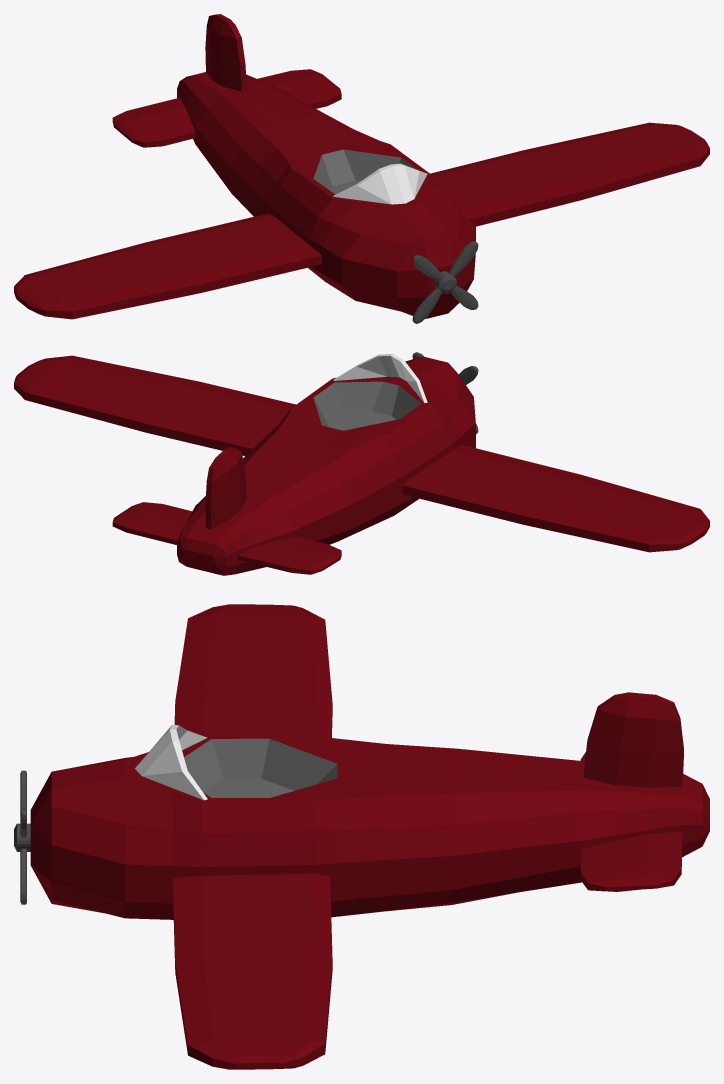
3 renders of one model, top to bottom at view 1: azimuth 30°, elevation 25°; view 2: azimuth 150°, elevation 25°; view 3: azimuth 270°, elevation 25°, orthographic. The views are drawn at different scales.
Parts seen in each view (by area): view 1: Body, Windshield, Propeller; view 2: Body, Windshield; view 3: Body, Windshield, Propeller.
Boxes of the visible parts, <box> form: Body: <box>14,14,709,319</box>; Windshield: <box>333,163,427,204</box>; Propeller: <box>412,241,478,323</box>; Body: <box>14,355,709,575</box>; Windshield: <box>333,354,427,402</box>; Body: <box>30,604,709,1069</box>; Windshield: <box>135,724,207,800</box>; Propeller: <box>14,770,30,904</box>.
Size of the model in its own units: 5407 by 1176 by 3465.
